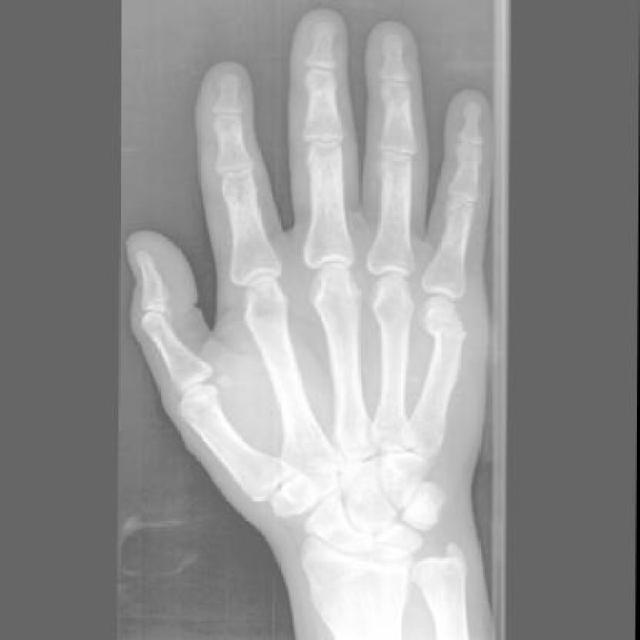Fracture: (417, 314, 479, 354)
